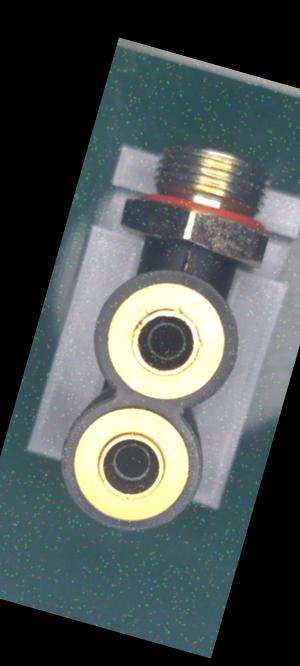craze: (175, 237, 201, 278)
